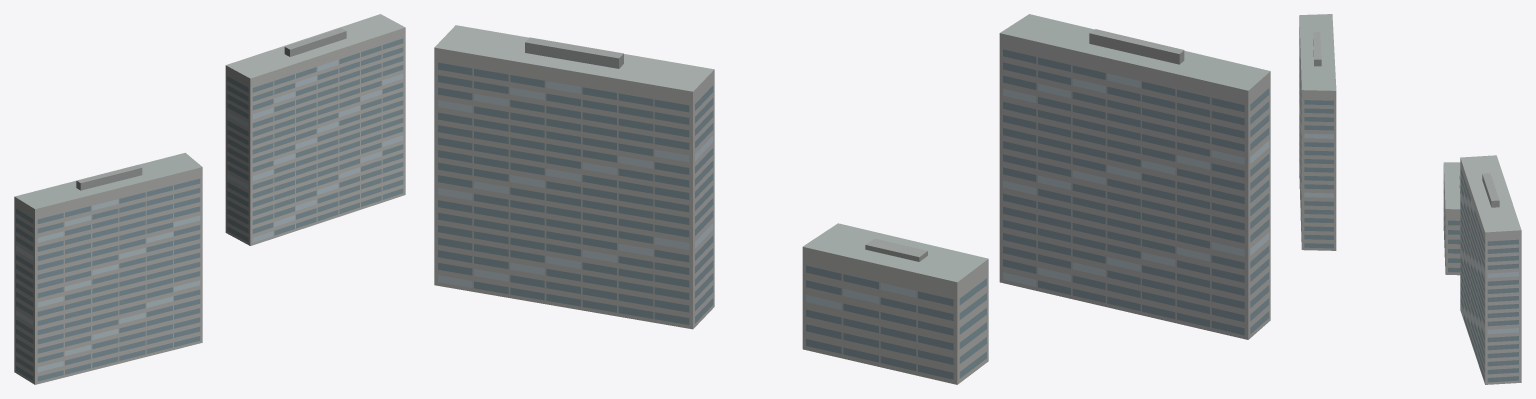
Rendered from apt-a10023859.glb.
3 views of the same model, side by side, from view 1: azimuth 30°, elevation 25°; view 2: azimuth 150°, elevation 25°; view 3: azimuth 270°, elevation 25° (orthographic). The views are drawn at different scales.
Visible parts, largest first — view 1: apt-a10023859; view 2: apt-a10023859; view 3: apt-a10023859.
Boxes of the visible parts, x1,y1,x2,y2 form: apt-a10023859: [14, 14, 405, 384]; apt-a10023859: [434, 14, 1270, 384]; apt-a10023859: [1299, 14, 1521, 384].
Bounding box in the file's own units: 161 × 59.25 × 71.58.
